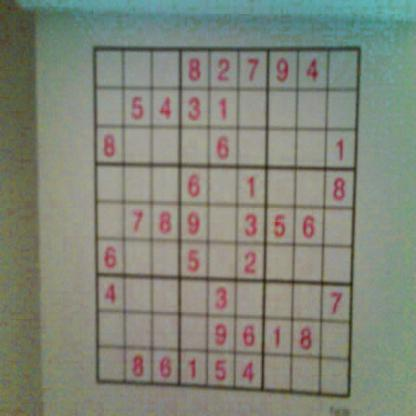sudoku: (88, 41, 365, 404)
